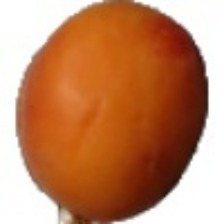apricot: (3, 16, 192, 203)
